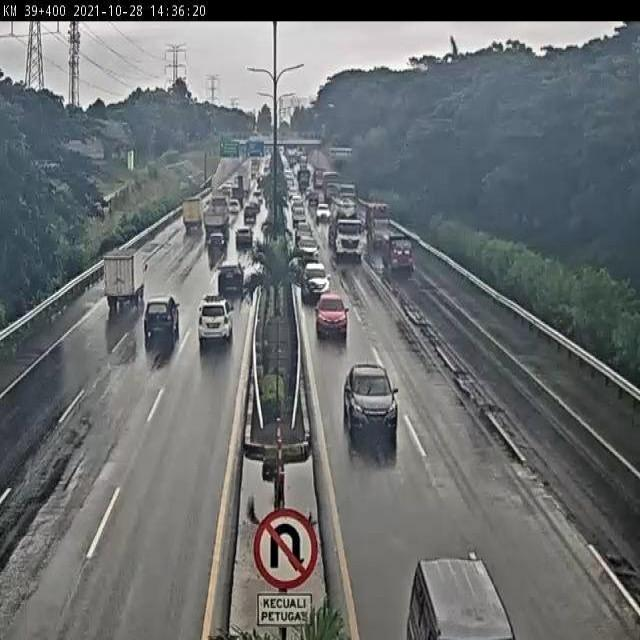big truck: (329, 196, 364, 260), (199, 198, 229, 238)
car: (341, 360, 401, 437), (198, 296, 233, 345), (143, 296, 181, 339), (313, 291, 349, 336), (302, 261, 331, 300), (216, 263, 245, 297), (205, 231, 228, 257), (297, 235, 319, 261), (234, 224, 254, 249)
small truck: (102, 249, 147, 308), (380, 225, 414, 275), (180, 196, 206, 232)
